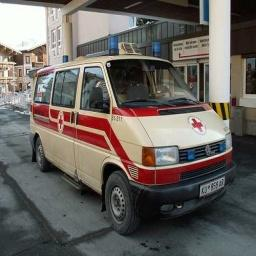ambulance: (30, 43, 235, 233)
